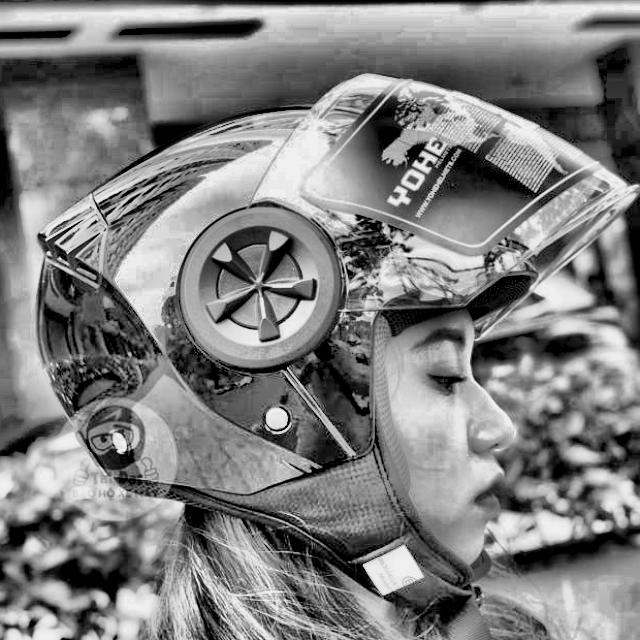Helmet: (26, 65, 640, 628)
